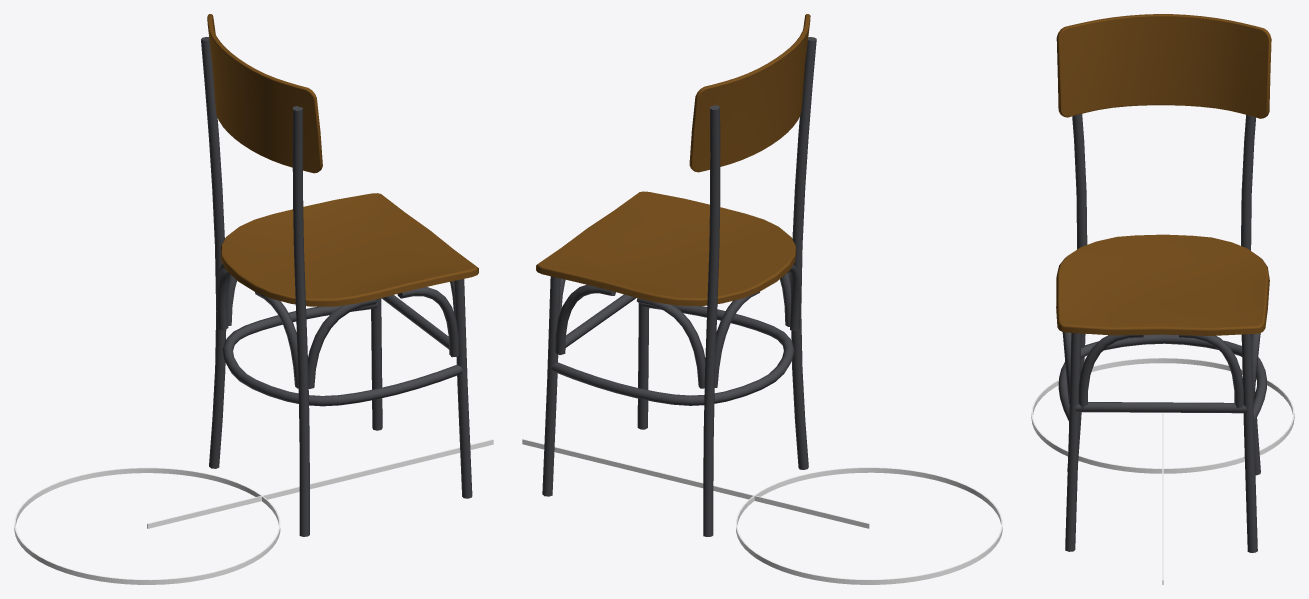
Rendered from Chair_Bones #9852.fbx.
3 views of the same model, side by side, from view 1: azimuth 30°, elevation 25°; view 2: azimuth 150°, elevation 25°; view 3: azimuth 270°, elevation 25° (orthographic).
Visible parts, largest first — view 1: Obj_Chair, Line005, Radius_Guide, Line007; view 2: Obj_Chair, Line005, Radius_Guide, Line007; view 3: Obj_Chair, Line005, Radius_Guide, Line007.
Boxes of the visible parts, box(x1,y1,x2,y2) form: Obj_Chair: box(207, 14, 478, 306); Line005: box(201, 37, 472, 536); Radius_Guide: box(14, 439, 493, 584); Line007: box(217, 264, 458, 388); Obj_Chair: box(536, 14, 810, 305); Line005: box(542, 37, 816, 536); Radius_Guide: box(522, 439, 1002, 584); Line007: box(555, 265, 800, 388); Obj_Chair: box(1056, 14, 1271, 335); Line005: box(1058, 114, 1266, 552); Radius_Guide: box(1031, 358, 1294, 584); Line007: box(1062, 332, 1260, 409).
Bounding box in the file's own units: 1 × 0.9355 × 0.5.
